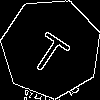T: (26, 23, 76, 78)
